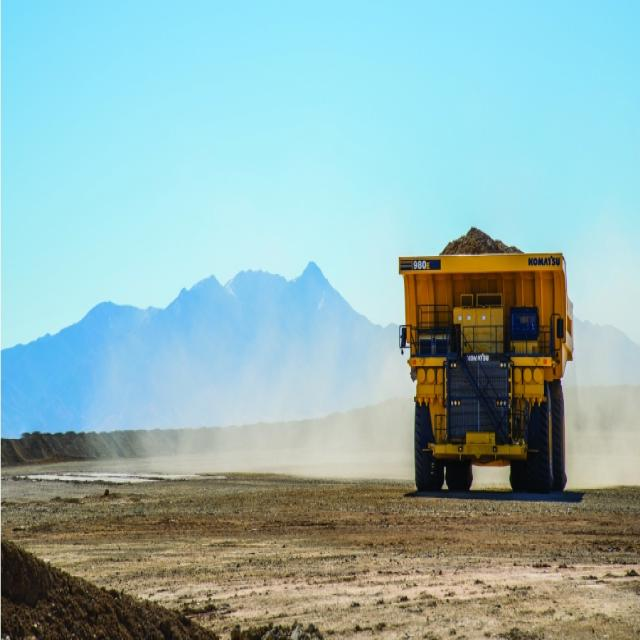dump_truck: (397, 220, 573, 492)
